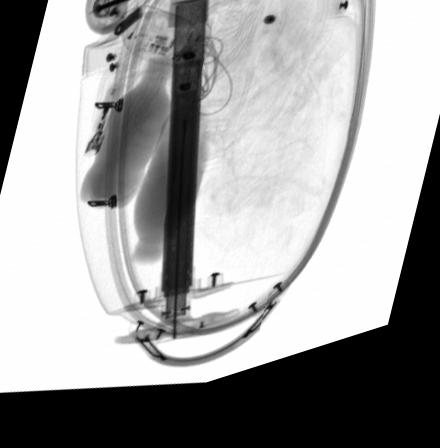Lighter: (83, 92, 123, 162)
